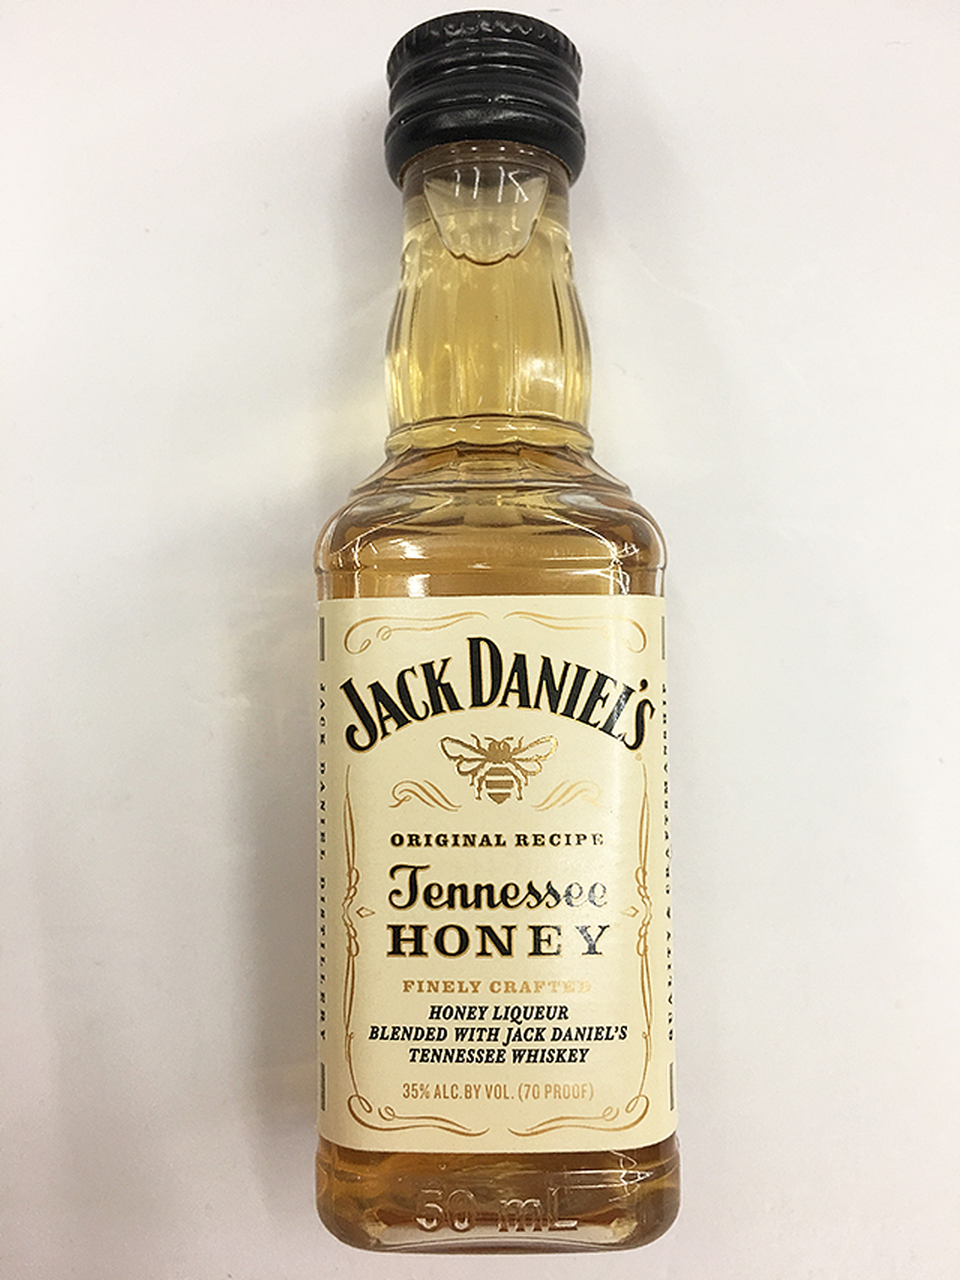Jack Daniel: (248, 6, 716, 1279)
